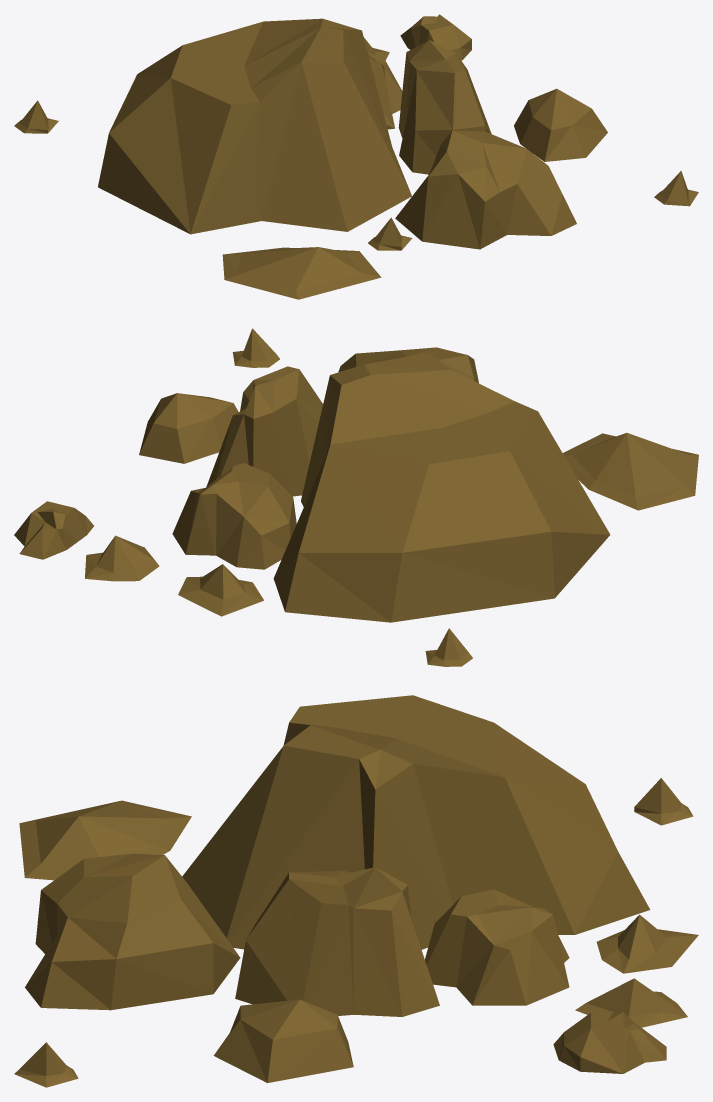
The model's file is obj_rocks_51_0.obj.
3 views of the same model, one above another, from view 1: azimuth 30°, elevation 25°; view 2: azimuth 150°, elevation 25°; view 3: azimuth 270°, elevation 25° (orthographic). The views are drawn at different scales.
Bounding box in the file's own units: 0.9844 × 0.2812 × 0.9922.
